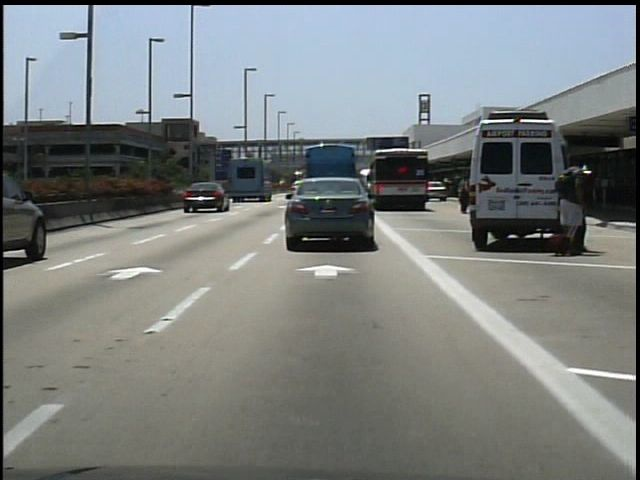person: (559, 155, 591, 259), (584, 166, 596, 253), (455, 171, 474, 218)
